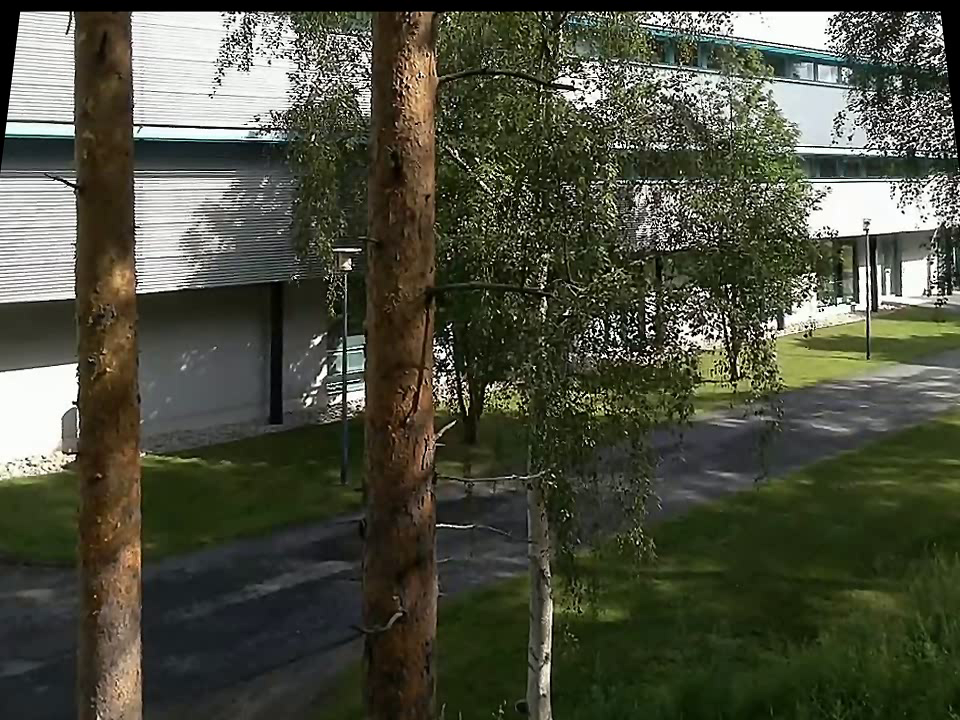branch: (440, 55, 588, 98), (439, 263, 566, 308), (438, 457, 558, 492), (437, 513, 518, 542)
trunk: (61, 11, 152, 715), (354, 21, 442, 712), (520, 227, 565, 712)
